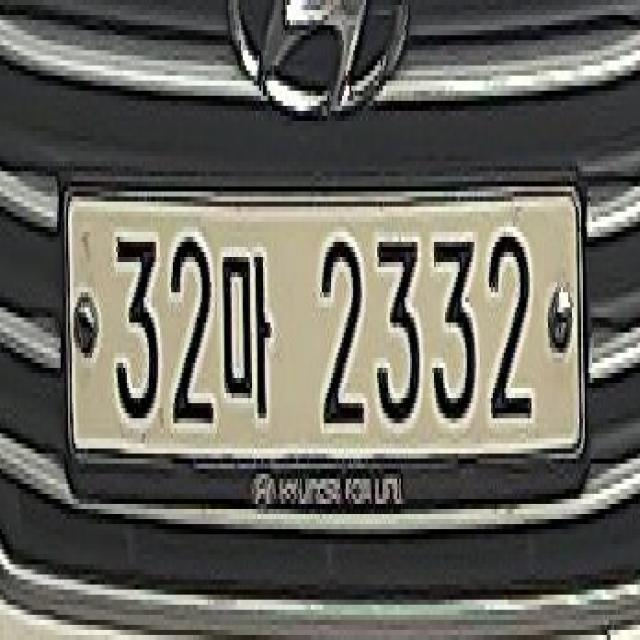2: (318, 227, 370, 433), (484, 222, 535, 428), (167, 227, 217, 433)
3: (109, 227, 168, 433), (429, 222, 478, 428), (375, 232, 425, 433)
license_plate: (66, 192, 581, 468)
ma: (221, 242, 274, 423)
